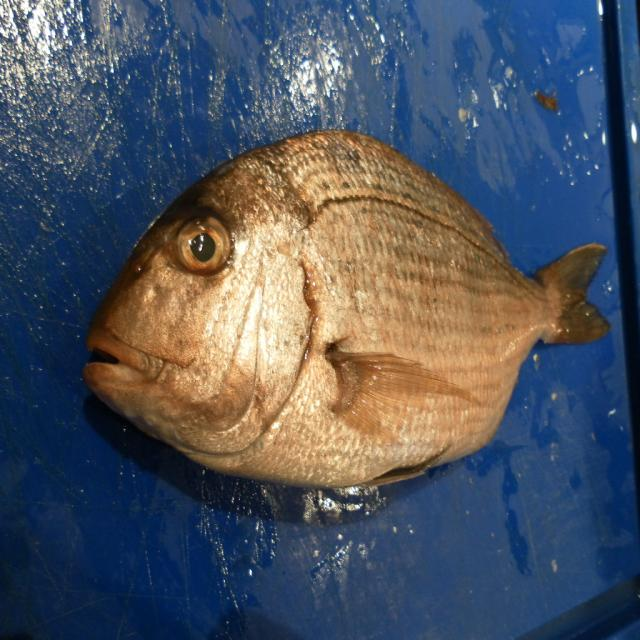Red-Sea-Bream-mercan-: (81, 128, 609, 492)
